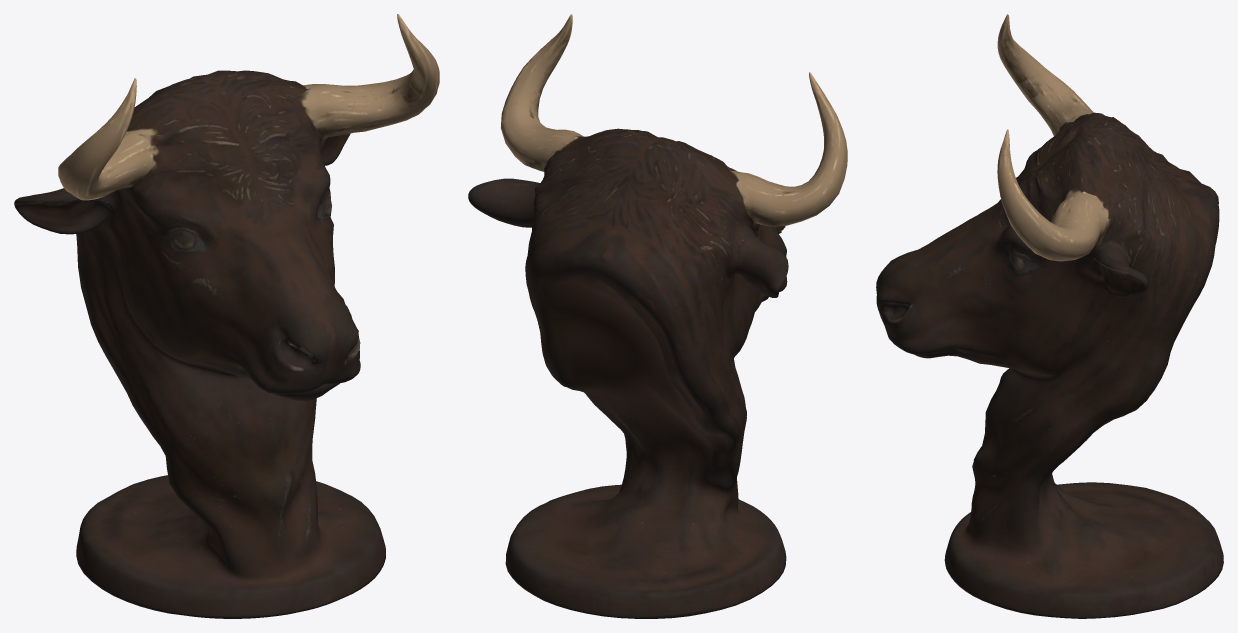
Rendered from bull_head.glb.
3 renders of one model, left to right at view 1: azimuth 30°, elevation 25°; view 2: azimuth 150°, elevation 25°; view 3: azimuth 270°, elevation 25°, orthographic. The views are drawn at different scales.
Parts seen in each view (by area): view 1: bull_head; view 2: bull_head; view 3: bull_head.
Boxes of the visible parts, x1,y1,x2,y2 form: bull_head: (14,14,439,618); bull_head: (468,14,847,618); bull_head: (876,14,1223,618).
Size of the model in its own units: 0.3063 by 0.433 by 0.2808.
1 material, 1 textured.
